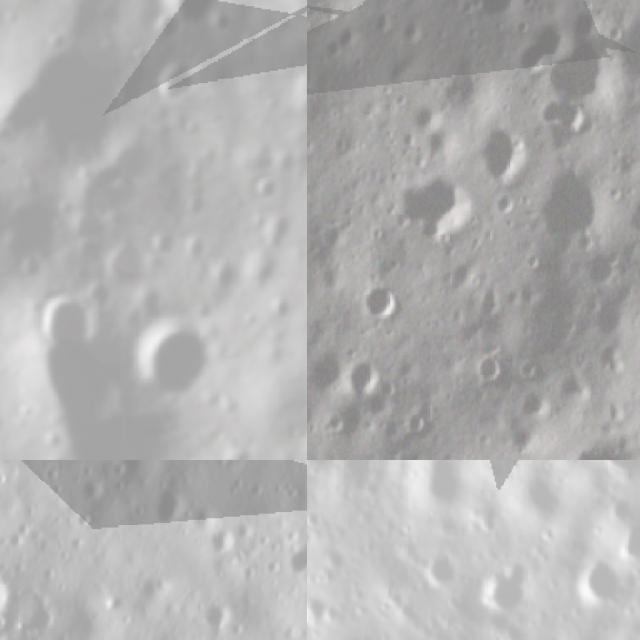crater: (0, 3, 134, 164), (134, 316, 220, 404), (524, 170, 606, 250), (537, 24, 613, 103), (33, 296, 107, 370), (397, 172, 464, 242), (140, 479, 203, 547), (470, 116, 530, 184), (148, 54, 202, 114), (68, 463, 120, 520), (576, 244, 631, 296), (190, 592, 243, 640), (522, 94, 584, 135), (105, 244, 149, 299), (364, 275, 409, 328), (570, 427, 638, 460), (341, 351, 392, 395), (160, 0, 225, 33), (279, 523, 307, 599), (0, 548, 24, 634), (615, 13, 640, 93), (480, 569, 526, 608), (583, 561, 616, 604), (466, 350, 506, 385), (554, 356, 584, 402), (146, 232, 180, 266), (252, 173, 286, 207), (150, 13, 182, 47), (504, 425, 538, 456), (517, 387, 546, 419), (622, 189, 640, 237), (516, 352, 544, 382), (307, 600, 330, 631)
